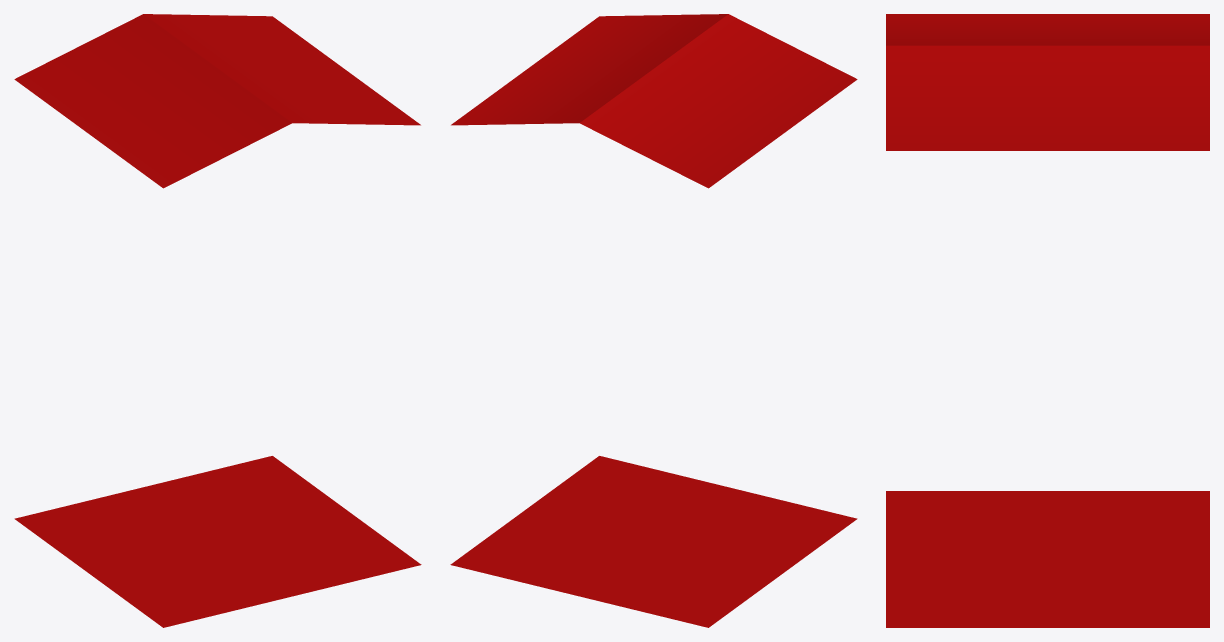
File: mesh_barn_Roof.fbx
3 renders of one model, left to right at view 1: azimuth 30°, elevation 25°; view 2: azimuth 150°, elevation 25°; view 3: azimuth 270°, elevation 25°, orthographic. The views are drawn at different scales.
Visible parts, largest first — view 1: mesh_barn_roof; view 2: mesh_barn_roof; view 3: mesh_barn_roof.
Part boxes in pixels (box(x1,y1,x2,y2)): mesh_barn_roof: box(14, 14, 421, 627); mesh_barn_roof: box(450, 14, 857, 627); mesh_barn_roof: box(886, 14, 1209, 627).
Bounding box in the file's own units: 400 × 700 × 400.
